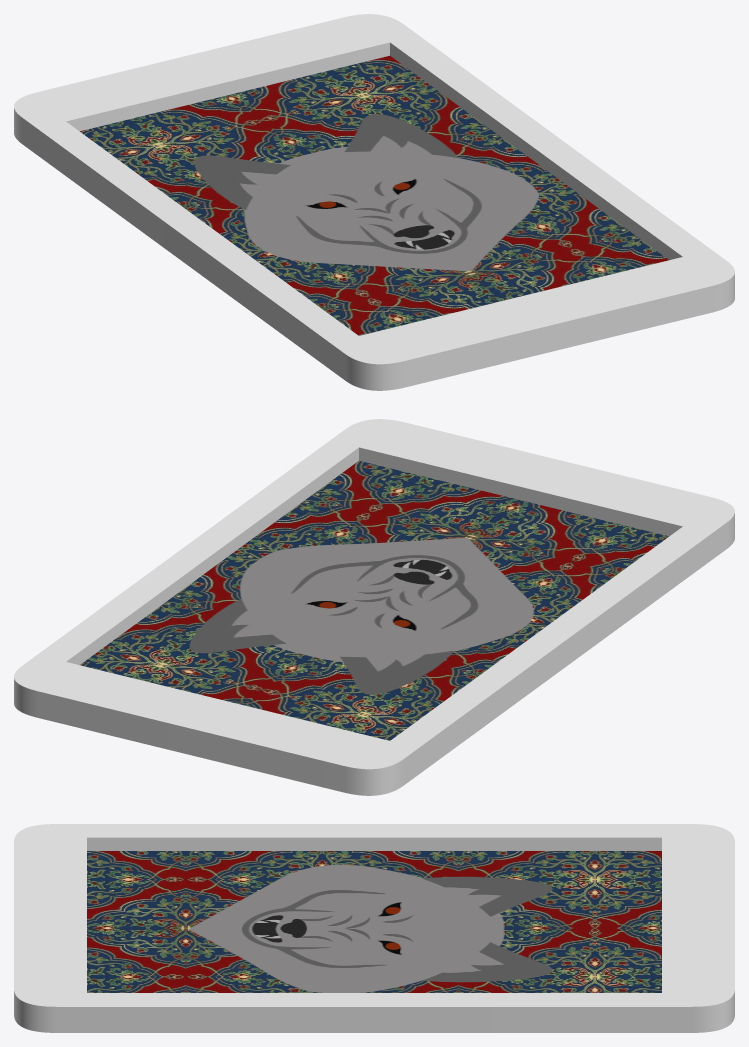
Rendered from Loup 1.fbx.
3 renders of one model, top to bottom at view 1: azimuth 30°, elevation 25°; view 2: azimuth 150°, elevation 25°; view 3: azimuth 270°, elevation 25°, orthographic.
Visible parts, largest first — view 1: Card V1; view 2: Card V1; view 3: Card V1.
Part boxes in pixels (left/top/right/bottom): Card V1: left=14, top=14, right=734, bottom=390; Card V1: left=14, top=419, right=734, bottom=795; Card V1: left=14, top=824, right=734, bottom=1032.
Size of the model in its own units: 4.72 by 0.315 by 7.87.
